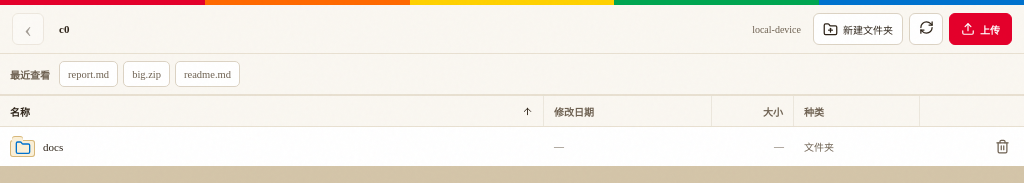
Test case: channel file browser (FilesFeature + useAttachmentTransactions) › does not let a completed mutation refresh overwrite a newer directory
Click the row "docs — — 文件夹": (512, 146) [0,127,1023,166]
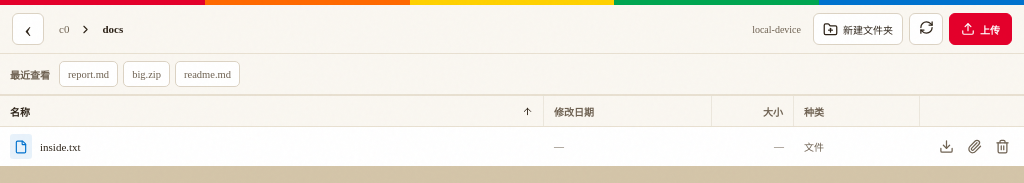
Click the button named "删除": (1002, 146) [988,132,1016,160]
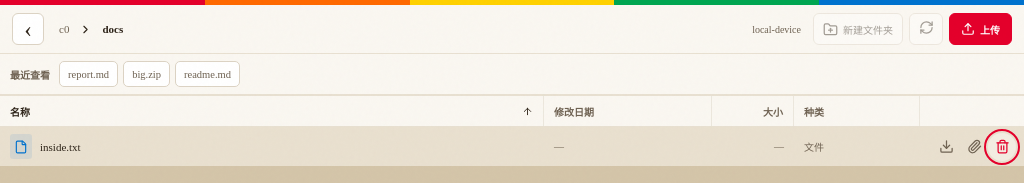
Click the button named "返回上一级": (28, 29) [12,13,44,45]
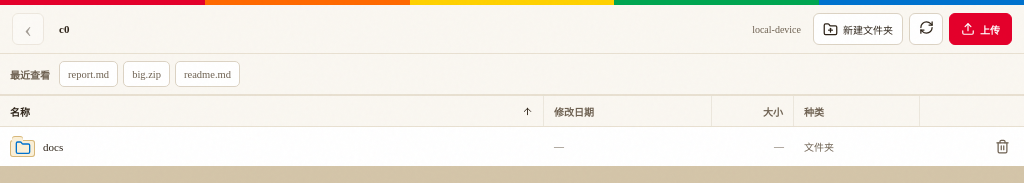
Result: the text "inside.txt" is gone
Result: the row "docs — — 文件夹" is shown at [0,127,1023,166]
